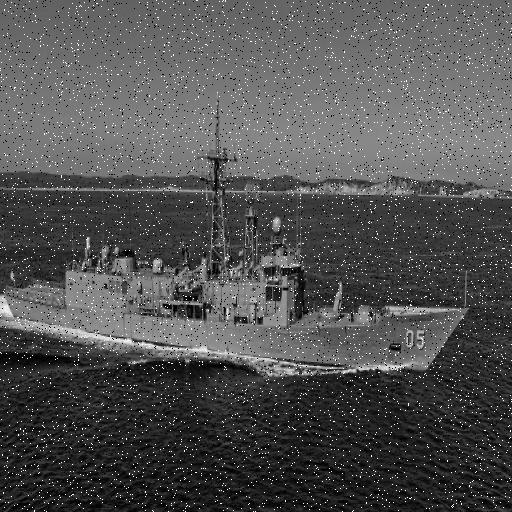Fragata: (4, 89, 471, 379)
